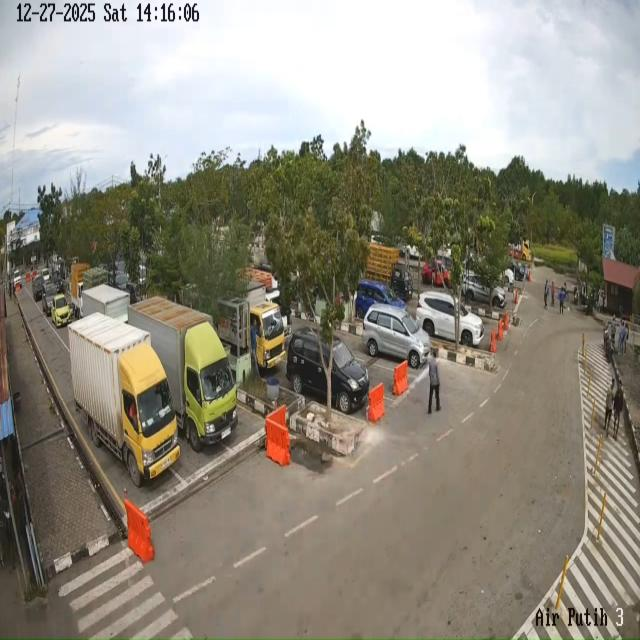Golongan IVA: (286, 327, 370, 414), (362, 304, 430, 369), (416, 290, 484, 347), (355, 279, 406, 320), (462, 271, 506, 308), (51, 293, 71, 328), (42, 282, 57, 316)
Golongan VB: (68, 313, 180, 486), (128, 297, 238, 452)
